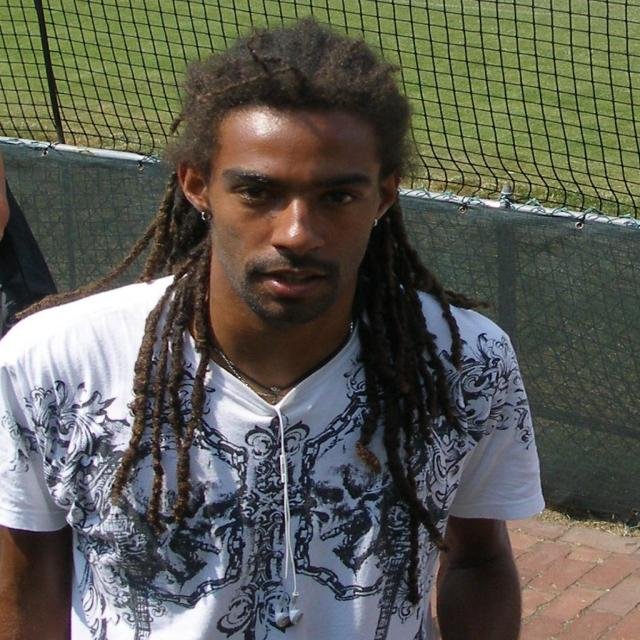Face: (190, 83, 408, 321)
